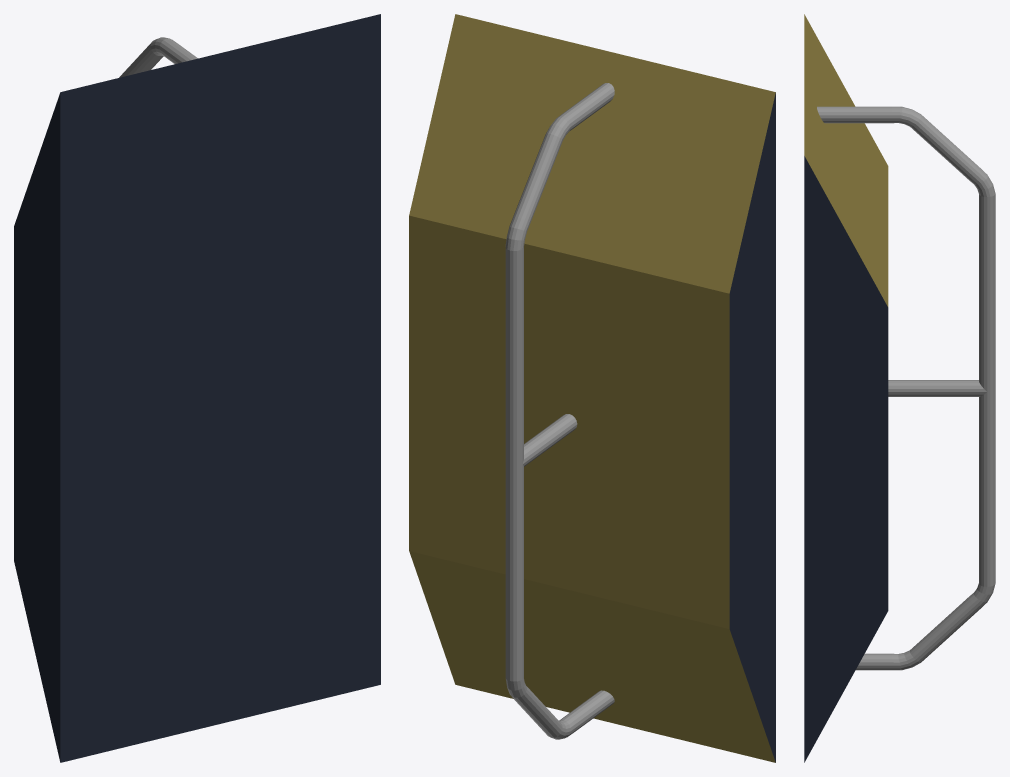
The model's file is Box W Rail Middle.fbx.
The picture shows the model from 3 angles, left to right: view 1: azimuth 30°, elevation 25°; view 2: azimuth 150°, elevation 25°; view 3: azimuth 270°, elevation 25°; orthographic projection. The views are drawn at different scales.
Visible parts, largest first — view 1: Box W Rail Middle; view 2: Box W Rail Middle; view 3: Box W Rail Middle.
Part boxes in pixels (x1,y1,x2,y2): Box W Rail Middle: (14,14,380,762); Box W Rail Middle: (409,14,775,762); Box W Rail Middle: (804,14,995,762).
Bounding box in the file's own units: 800 × 1600 × 456.
